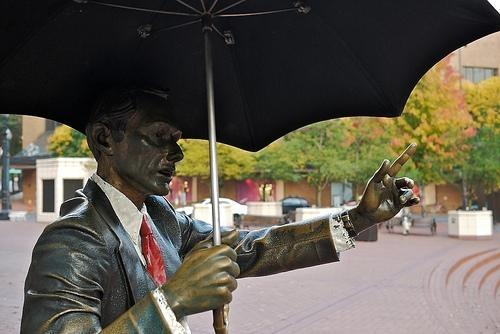car: (176, 197, 248, 229), (278, 197, 312, 214)
